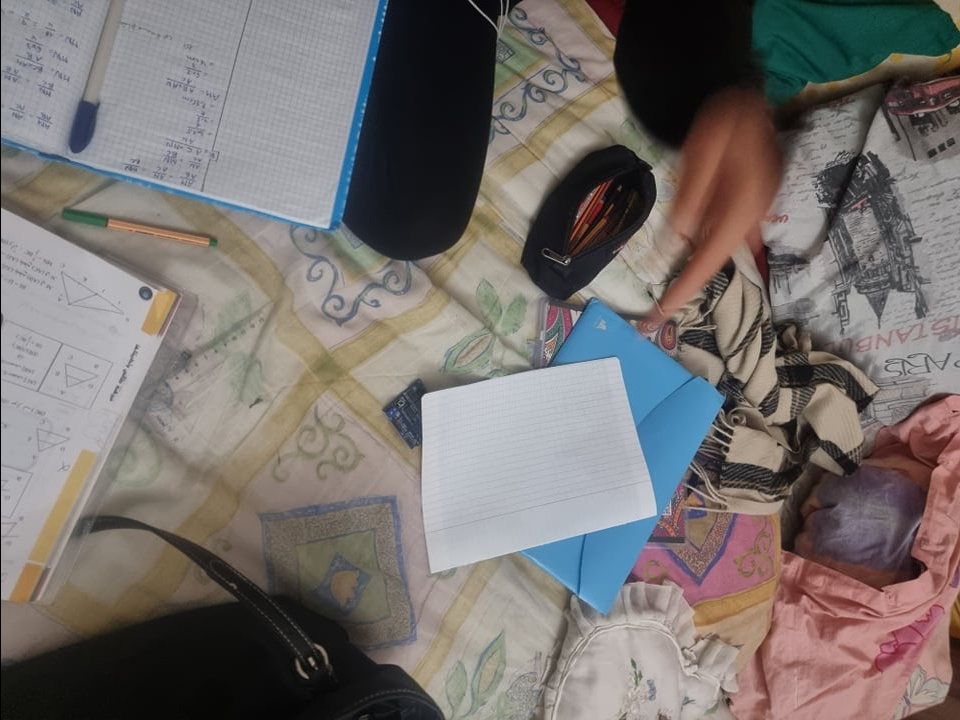5V EXPANSION: (382, 377, 432, 455)
